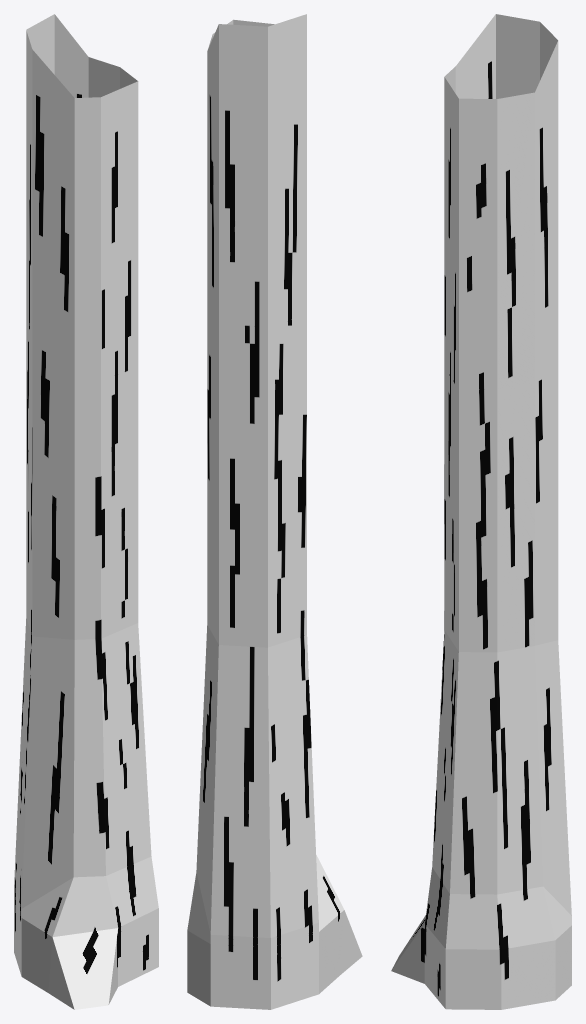
The model's file is TreeTrunk1.fbx.
The picture shows the model from 3 angles, left to right: view 1: azimuth 30°, elevation 25°; view 2: azimuth 150°, elevation 25°; view 3: azimuth 270°, elevation 25°; orthographic projection. The views are drawn at different scales.
Visible parts, largest first — view 1: Cylinder; view 2: Cylinder; view 3: Cylinder.
Part boxes in pixels (x1=…): Cylinder: x1=14, y1=14, x2=158, y2=1009; Cylinder: x1=187, y1=14, x2=362, y2=1009; Cylinder: x1=391, y1=14, x2=571, y2=1009.
Size of the model in its own units: 176 by 1362 by 236.
1 material, 1 textured.
